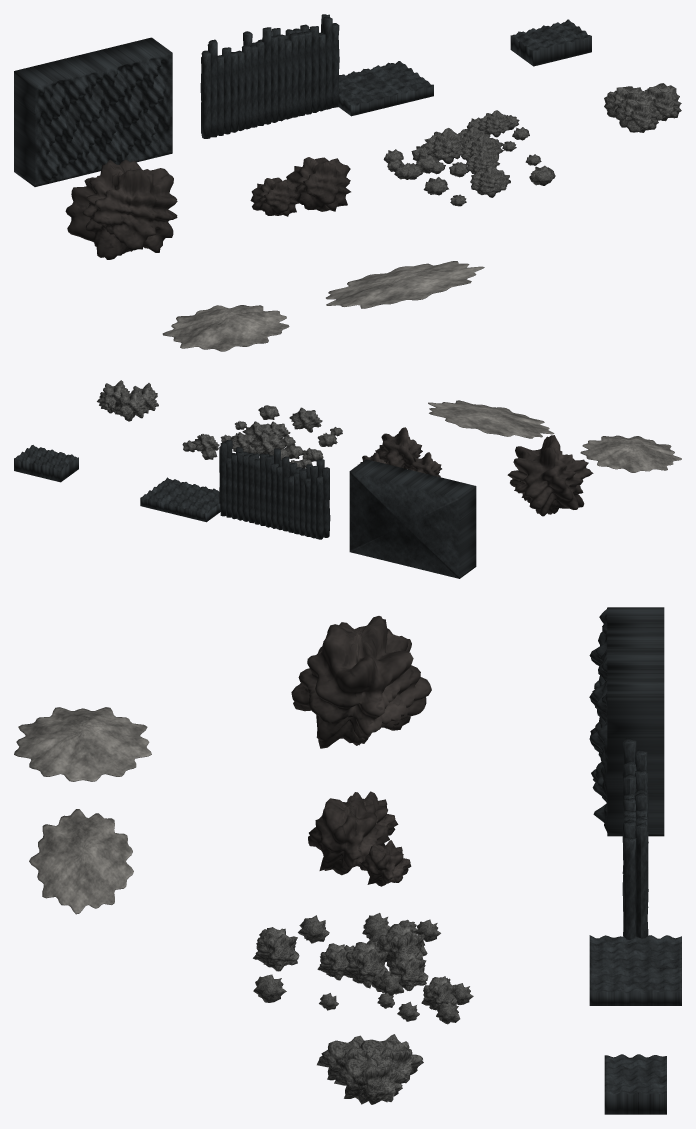
Rendered from PROJECT_Z_VR26_Volcanic_Basalt_Lava_ALL_KIT.glb.
The picture shows the model from 3 angles, top to bottom: view 1: azimuth 30°, elevation 25°; view 2: azimuth 150°, elevation 25°; view 3: azimuth 270°, elevation 25°; orthographic projection. The views are drawn at different scales.
Visible parts, largest first — view 1: 01_Basalt_Cliff_4m__RENDER_Cliff_Face_4x2p8, 05_Lava_Boulder_Large__RENDER_Cooled_Lava_Boulder, 10_Ash_Deposit_Windblown__RENDER_Ash_Drift_4m, 09_Ash_Deposit_Rounded__RENDER_Ash_Mound_3m, 03_Basalt_Slab_Broad__RENDER_Broad_Basalt_Slab, 06_Lava_Boulder_Cluster__RENDER_Cooled_Boulder_02, 04_Basalt_Slab_Fractured__RENDER_Fractured_Basalt_Slab, 06_Lava_Boulder_Cluster__RENDER_Cooled_Boulder_01, 08_Pumice_Cluster_Loose__RENDER_Pumice_Stone_04, 07_Pumice_Field_Scatter_4m__RENDER_Pumice_Stone_01, 08_Pumice_Cluster_Loose__RENDER_Pumice_Stone_05, 07_Pumice_Field_Scatter_4m__RENDER_Pumice_Stone_05 (+23 smaller); view 2: 01_Basalt_Cliff_4m__RENDER_Cliff_Face_4x2p8, 05_Lava_Boulder_Large__RENDER_Cooled_Lava_Boulder, 10_Ash_Deposit_Windblown__RENDER_Ash_Drift_4m, 09_Ash_Deposit_Rounded__RENDER_Ash_Mound_3m, 03_Basalt_Slab_Broad__RENDER_Broad_Basalt_Slab, 04_Basalt_Slab_Fractured__RENDER_Fractured_Basalt_Slab, 06_Lava_Boulder_Cluster__RENDER_Cooled_Boulder_02, 08_Pumice_Cluster_Loose__RENDER_Pumice_Stone_01, 02_Columnar_Basalt_Wall_4m__RENDER_Column_Rear_07, 07_Pumice_Field_Scatter_4m__RENDER_Pumice_Stone_05, 07_Pumice_Field_Scatter_4m__RENDER_Pumice_Stone_01, 02_Columnar_Basalt_Wall_4m__RENDER_Column_Rear_01 (+22 smaller); view 3: 01_Basalt_Cliff_4m__RENDER_Cliff_Face_4x2p8, 05_Lava_Boulder_Large__RENDER_Cooled_Lava_Boulder, 10_Ash_Deposit_Windblown__RENDER_Ash_Drift_4m, 09_Ash_Deposit_Rounded__RENDER_Ash_Mound_3m, 03_Basalt_Slab_Broad__RENDER_Broad_Basalt_Slab, 06_Lava_Boulder_Cluster__RENDER_Cooled_Boulder_02, 04_Basalt_Slab_Fractured__RENDER_Fractured_Basalt_Slab, 08_Pumice_Cluster_Loose__RENDER_Pumice_Stone_05, 06_Lava_Boulder_Cluster__RENDER_Cooled_Boulder_03, 07_Pumice_Field_Scatter_4m__RENDER_Pumice_Stone_05, 02_Columnar_Basalt_Wall_4m__RENDER_Column_Rear_18, 07_Pumice_Field_Scatter_4m__RENDER_Pumice_Stone_03 (+7 smaller).
Part boxes in pixels (x1,y1,x2,y2): 01_Basalt_Cliff_4m__RENDER_Cliff_Face_4x2p8: [14, 37, 172, 186]; 05_Lava_Boulder_Large__RENDER_Cooled_Lava_Boulder: [65, 159, 177, 259]; 10_Ash_Deposit_Windblown__RENDER_Ash_Drift_4m: [326, 261, 484, 308]; 09_Ash_Deposit_Rounded__RENDER_Ash_Mound_3m: [162, 305, 289, 351]; 03_Basalt_Slab_Broad__RENDER_Broad_Basalt_Slab: [338, 61, 433, 116]; 06_Lava_Boulder_Cluster__RENDER_Cooled_Boulder_02: [286, 157, 350, 211]; 04_Basalt_Slab_Fractured__RENDER_Fractured_Basalt_Slab: [510, 19, 591, 66]; 06_Lava_Boulder_Cluster__RENDER_Cooled_Boulder_01: [250, 177, 298, 216]; 08_Pumice_Cluster_Loose__RENDER_Pumice_Stone_04: [615, 96, 658, 132]; 07_Pumice_Field_Scatter_4m__RENDER_Pumice_Stone_01: [423, 128, 466, 163]; 08_Pumice_Cluster_Loose__RENDER_Pumice_Stone_05: [643, 83, 681, 121]; 07_Pumice_Field_Scatter_4m__RENDER_Pumice_Stone_05: [470, 165, 510, 197]; 01_Basalt_Cliff_4m__RENDER_Cliff_Face_4x2p8: [349, 459, 476, 578]; 05_Lava_Boulder_Large__RENDER_Cooled_Lava_Boulder: [507, 435, 593, 516]; 10_Ash_Deposit_Windblown__RENDER_Ash_Drift_4m: [428, 400, 554, 438]; 09_Ash_Deposit_Rounded__RENDER_Ash_Mound_3m: [580, 435, 681, 472]; 03_Basalt_Slab_Broad__RENDER_Broad_Basalt_Slab: [140, 477, 220, 522]; 04_Basalt_Slab_Fractured__RENDER_Fractured_Basalt_Slab: [14, 445, 78, 482]; 06_Lava_Boulder_Cluster__RENDER_Cooled_Boulder_02: [375, 427, 422, 468]; 08_Pumice_Cluster_Loose__RENDER_Pumice_Stone_01: [114, 388, 146, 421]; 02_Columnar_Basalt_Wall_4m__RENDER_Column_Rear_07: [282, 456, 289, 531]; 07_Pumice_Field_Scatter_4m__RENDER_Pumice_Stone_05: [289, 407, 322, 432]; 07_Pumice_Field_Scatter_4m__RENDER_Pumice_Stone_01: [249, 432, 285, 454]; 02_Columnar_Basalt_Wall_4m__RENDER_Column_Rear_01: [316, 476, 323, 539]; 01_Basalt_Cliff_4m__RENDER_Cliff_Face_4x2p8: [589, 607, 664, 836]; 05_Lava_Boulder_Large__RENDER_Cooled_Lava_Boulder: [291, 616, 431, 748]; 10_Ash_Deposit_Windblown__RENDER_Ash_Drift_4m: [29, 809, 133, 914]; 09_Ash_Deposit_Rounded__RENDER_Ash_Mound_3m: [14, 707, 151, 781]; 03_Basalt_Slab_Broad__RENDER_Broad_Basalt_Slab: [589, 935, 681, 1005]; 06_Lava_Boulder_Cluster__RENDER_Cooled_Boulder_02: [308, 792, 389, 875]; 04_Basalt_Slab_Fractured__RENDER_Fractured_Basalt_Slab: [604, 1054, 666, 1114]; 08_Pumice_Cluster_Loose__RENDER_Pumice_Stone_05: [334, 1053, 406, 1104]; 06_Lava_Boulder_Cluster__RENDER_Cooled_Boulder_03: [360, 840, 411, 886]; 07_Pumice_Field_Scatter_4m__RENDER_Pumice_Stone_05: [253, 927, 299, 971]; 02_Columnar_Basalt_Wall_4m__RENDER_Column_Rear_18: [635, 823, 647, 938]; 07_Pumice_Field_Scatter_4m__RENDER_Pumice_Stone_03: [342, 942, 388, 988].
Bounding box in the file's own units: 17.79 × 2.8 × 12.32.
10 materials, 10 textured.
